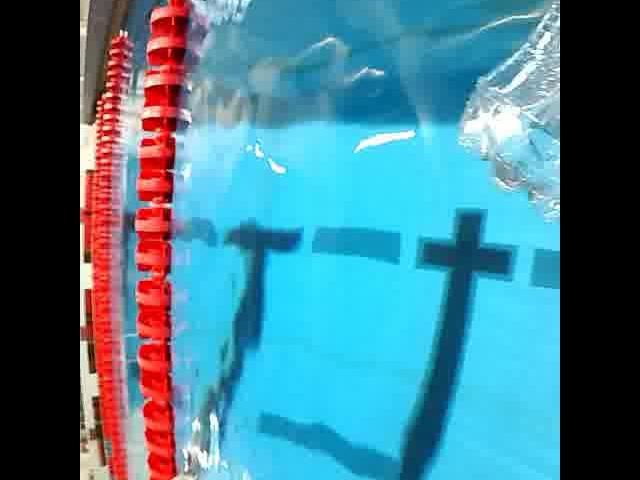Bottle: (452, 0, 560, 241), (161, 463, 203, 480)
